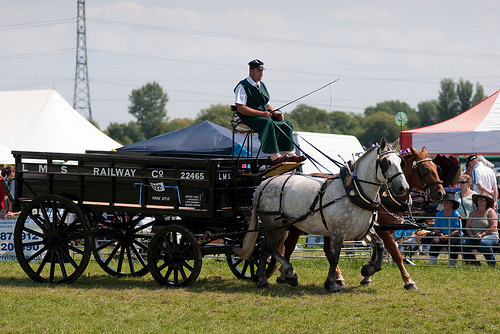horse: (232, 138, 411, 293), (307, 145, 448, 290)
